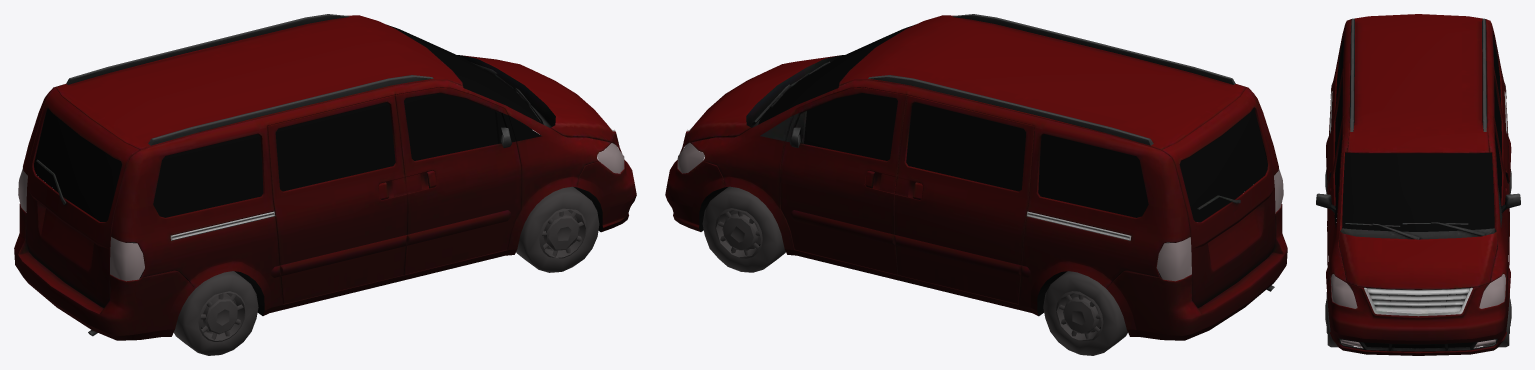
The model's file is pc-minivan.lod0.glb.
3 views of the same model, side by side, from view 1: azimuth 30°, elevation 25°; view 2: azimuth 150°, elevation 25°; view 3: azimuth 270°, elevation 25° (orthographic). The views are drawn at different scales.
Visible parts, largest first — view 1: minivan body_Body_0, Wheel_D_Wheel_0; view 2: minivan body_Body_0, Wheel_D_Wheel_0; view 3: minivan body_Body_0, Wheel_D_Wheel_0.
Part boxes in pixels (<box>): minivan body_Body_0: <box>14,14,636,340</box>; Wheel_D_Wheel_0: <box>18,24,624,355</box>; minivan body_Body_0: <box>665,14,1287,340</box>; Wheel_D_Wheel_0: <box>677,24,1283,355</box>; minivan body_Body_0: <box>1316,14,1520,355</box>; Wheel_D_Wheel_0: <box>1325,39,1511,347</box>.
Bounding box in the file's own units: 4.6 × 1.76 × 1.87.
2 materials, 1 textured.
